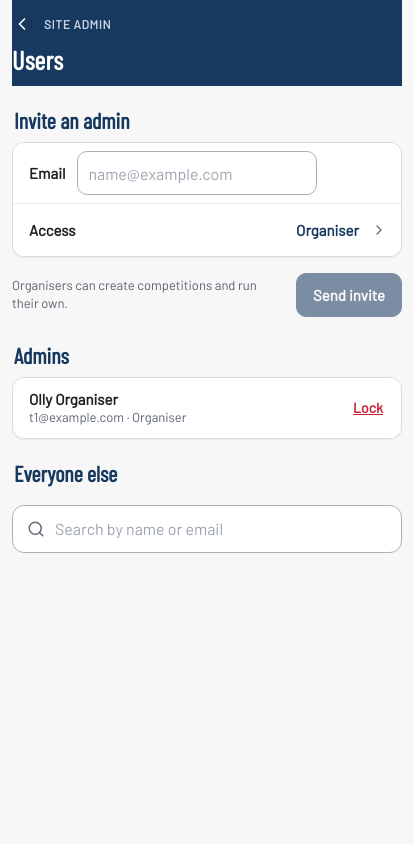
Scenario: UsersPage › searches everyone else, leaving staff to the list above, and offers Make admin to a master admin
Type "pat" into the search field named "Search accounts" at x=221, y=529, box x1=55 y1=507 x2=387 y2=551
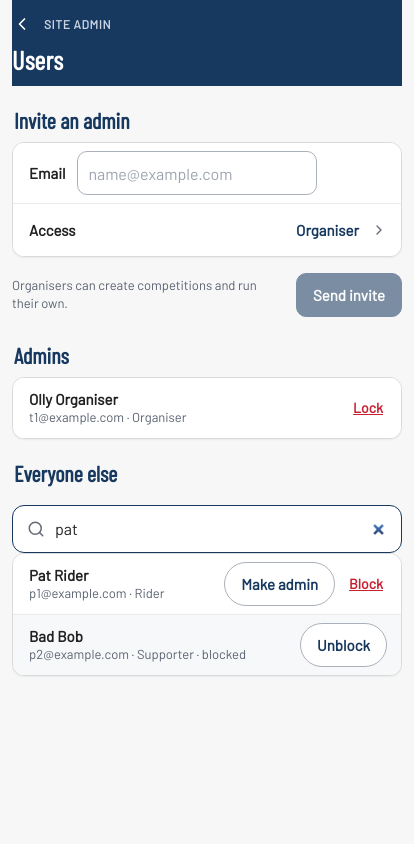
Expected: the text "Pat Rider" is shown, x1=29 y1=566 x2=89 y2=584
Expected: the button with aria-label "Make Pat Rider an admin" is shown, x1=224 y1=562 x2=335 y2=606
Expected: the button with aria-label "Unblock Bad Bob" is shown, x1=300 y1=623 x2=387 y2=667
